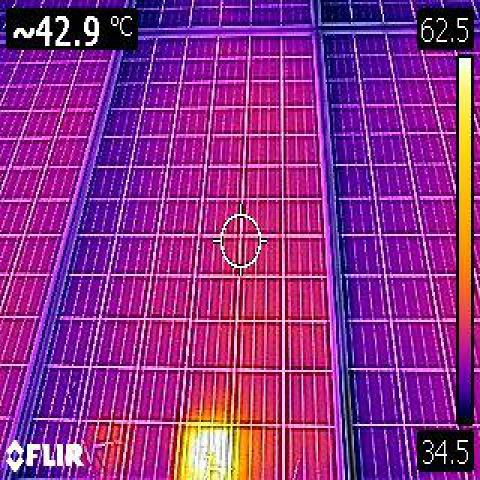fault: (179, 417, 235, 480)
